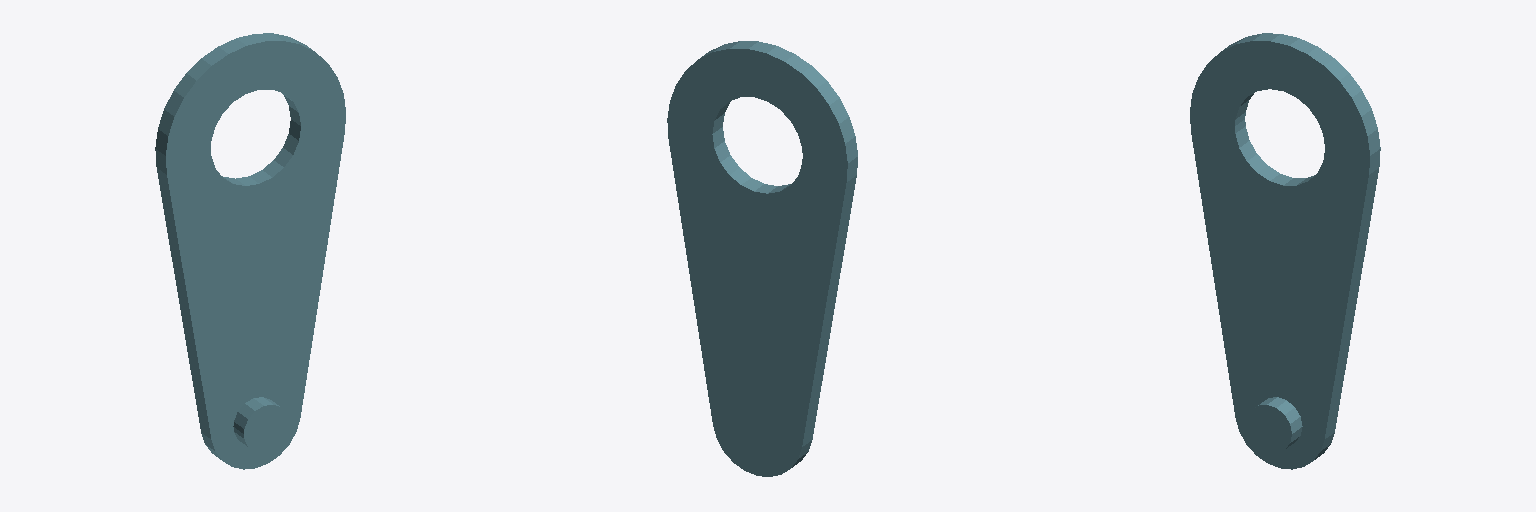
The model's file is arm1.obj.
The picture shows the model from 3 angles: view 1: azimuth 30°, elevation 25°; view 2: azimuth 150°, elevation 25°; view 3: azimuth 330°, elevation 25°; orthographic projection.
Size of the model in its own units: 0.9993 by 2.25 by 0.2.